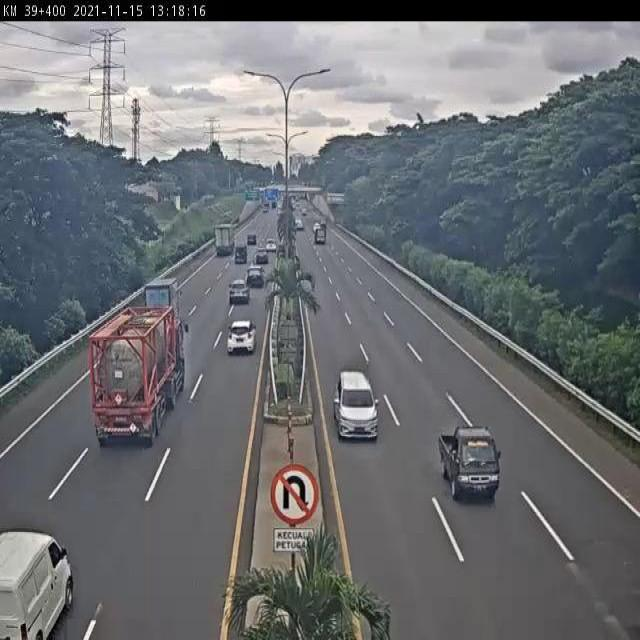car: (333, 367, 381, 441), (228, 317, 258, 359), (228, 279, 250, 308), (244, 264, 266, 291)
truck-s-: (437, 420, 500, 503), (144, 276, 182, 331)
truck-xl-: (92, 304, 187, 445)
